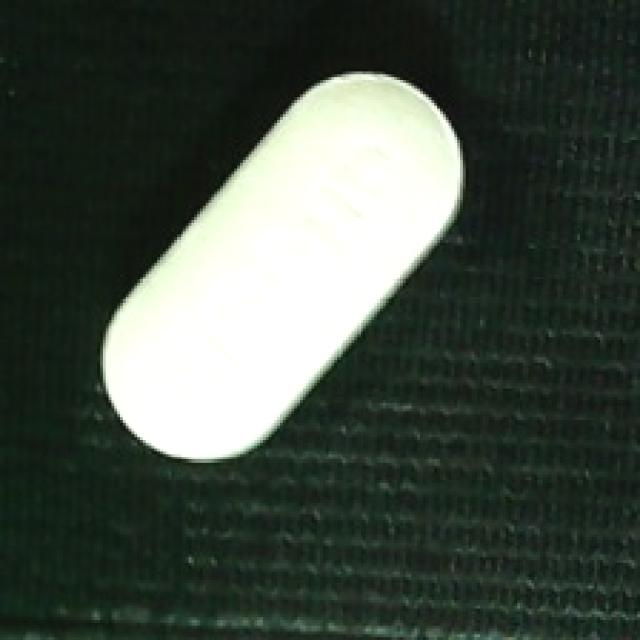no-defect: (98, 69, 467, 465)
